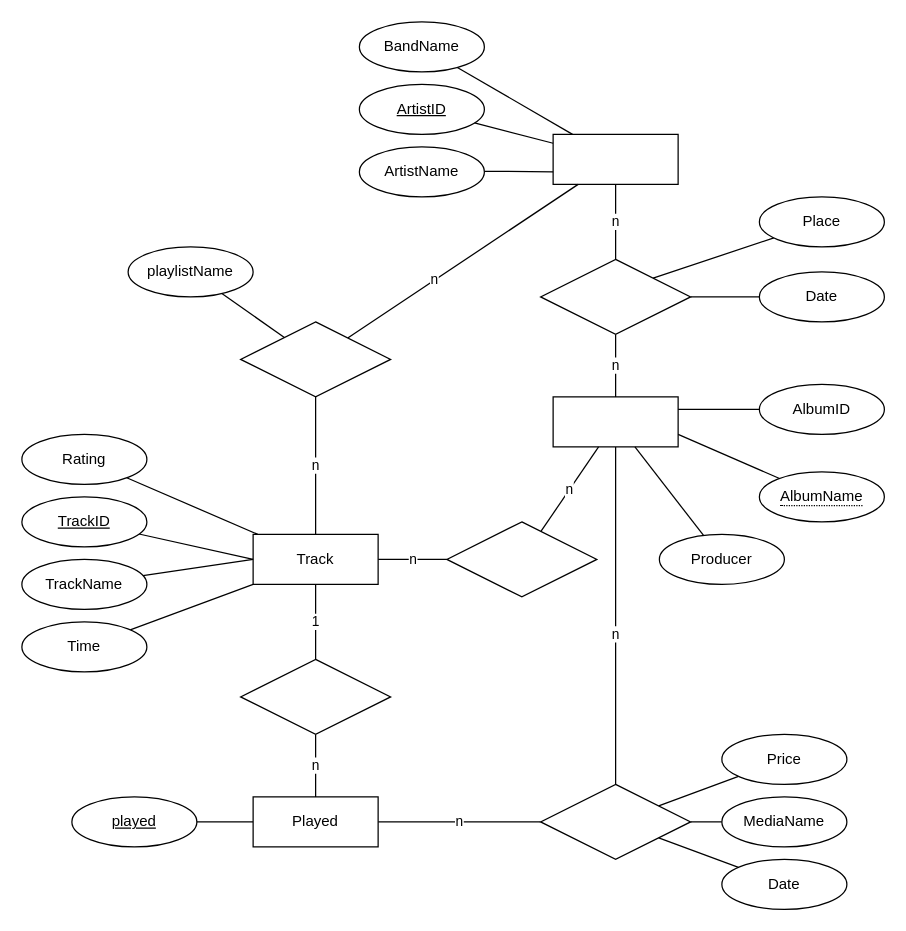
This 906x931 diagram has some shape labels left out. Each missing label, with the box of its shape:
Album: (552, 396, 678, 447)
Arttist: (552, 133, 678, 184)
Compiles: (539, 258, 691, 334)
Contains: (446, 521, 597, 597)
Playlist: (239, 321, 391, 397)
SrcDetail: (539, 783, 691, 859)
wasplayedat: (239, 658, 391, 734)
